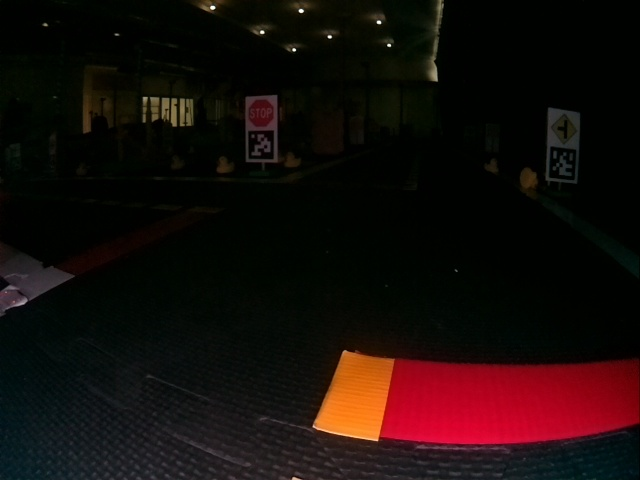Duckie: (520, 168, 537, 186), (217, 156, 232, 172), (171, 156, 184, 169), (288, 153, 300, 165), (486, 158, 497, 169)
Intersection sign: (549, 112, 576, 142)
QR code: (547, 148, 575, 181), (246, 130, 274, 161)
Stop sign: (246, 97, 274, 126)
